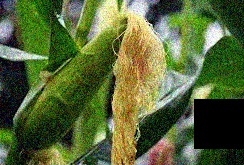corn_plant: (22, 8, 159, 148)
